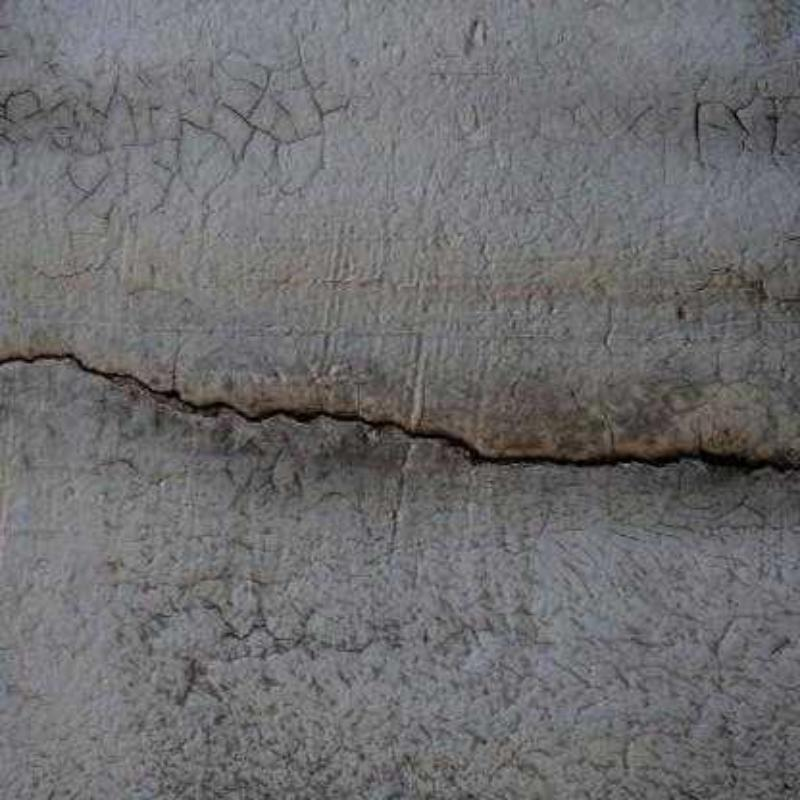pothole: (0, 354, 798, 474)
